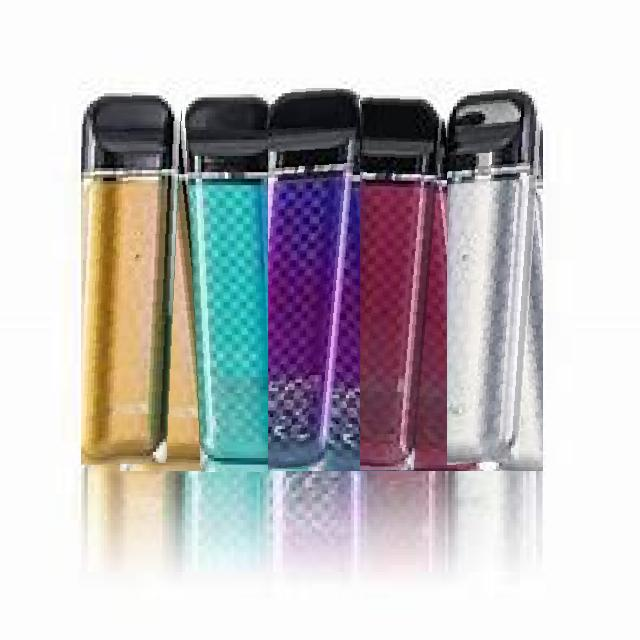Vapes: (78, 88, 543, 471), (81, 90, 183, 466), (447, 85, 544, 467), (268, 88, 361, 472), (360, 82, 445, 470), (184, 94, 270, 472)
